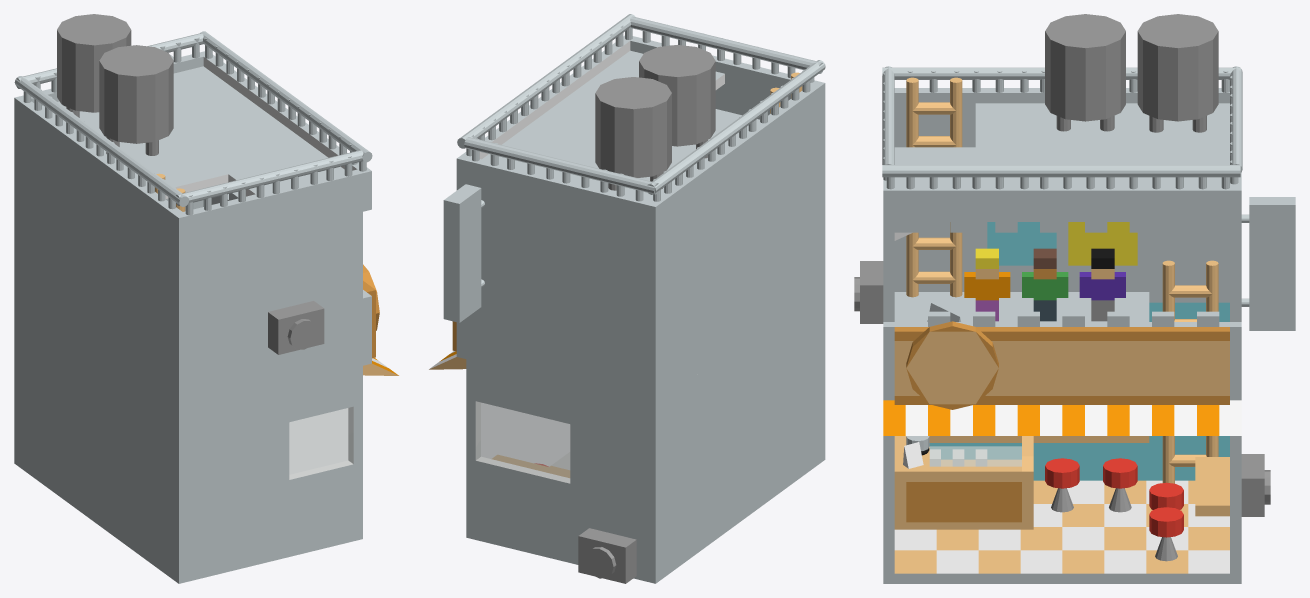
The model's file is Shop 01.glb.
3 renders of one model, left to right at view 1: azimuth 30°, elevation 25°; view 2: azimuth 150°, elevation 25°; view 3: azimuth 270°, elevation 25°, orthographic. The views are drawn at different scales.
Visible parts, largest first — view 1: group220713642, group1400583826, group958949532, group485141775, group234497238, group216210285, group1693160235, group712268819, group777578268, group1015592258, group1622057974, group100164875 (+9 smaller); view 2: group220713642, group774387936, group958949532, group2074890482, group69702527, group712268819, group234497238, group2119494216, group1693160235, group1630856941, group428848242, group1400583826 (+9 smaller); view 3: group829937820, group1035701127, group100164875, group220713642, group234497238, group2006407116, group712268819, group1693160235, group958949532, group49051142, group1630856941, group819224045 (+38 smaller).
Part boxes in pixels (x1,y1,x2,y2): group220713642: (14,95,187,410); group1400583826: (183,169,362,408); group958949532: (14,290,187,583); group485141775: (188,460,362,581); group234497238: (42,66,319,199); group216210285: (179,384,289,506); group1693160235: (99,45,173,143); group712268819: (57,14,131,112); group777578268: (289,407,353,479); group1015592258: (289,368,353,422); group1622057974: (14,76,189,206); group100164875: (199,51,371,211); group220713642: (646,80,825,405); group774387936: (466,157,651,402); group958949532: (646,281,825,583); group2074890482: (466,456,646,581); group69702527: (570,384,646,501); group712268819: (595,77,671,177); group234497238: (482,78,759,200); group2119494216: (475,401,570,483); group1693160235: (639,45,715,146); group1630856941: (443,184,481,322); group428848242: (475,361,570,423); group1400583826: (630,37,815,119); group829937820: (894,480,1229,583); group1035701127: (894,327,1229,404); group100164875: (883,185,1241,232); group220713642: (894,88,1229,302); group234497238: (975,103,1229,185); group2006407116: (883,400,1241,435); group712268819: (1137,14,1218,121); group1693160235: (1045,14,1125,121); group958949532: (929,302,1229,480); group49051142: (906,321,998,409); group1630856941: (1249,197,1295,330); group819224045: (883,311,1241,400).
Bounding box in the file's own units: 0.24 × 0.46 × 0.3817.
